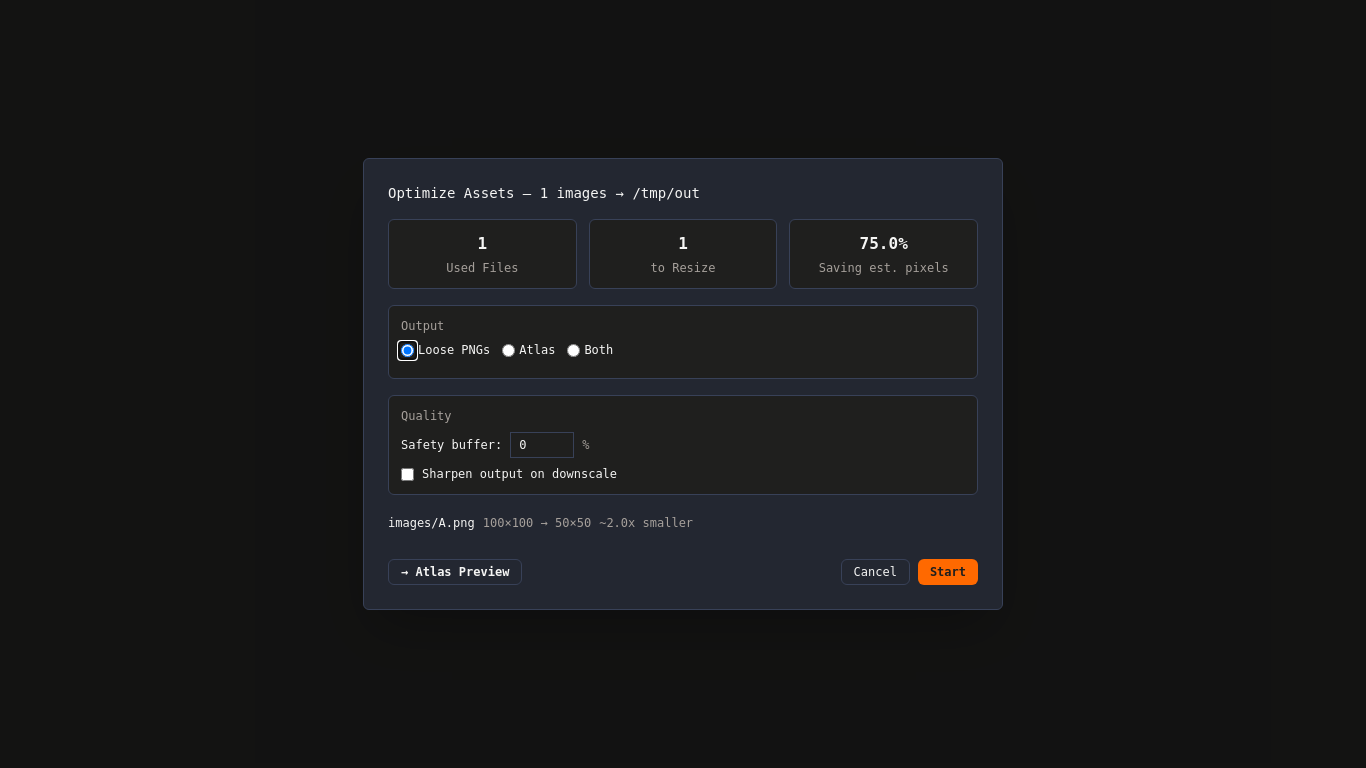
it: OptimizeDialog — auto-expand on per-row error › error progress event renders the underlying message inline (no manual click required)
The image size is (1366, 768).
Click the button "Start" at [948, 572], box x1=918 y1=559 x2=978 y2=585
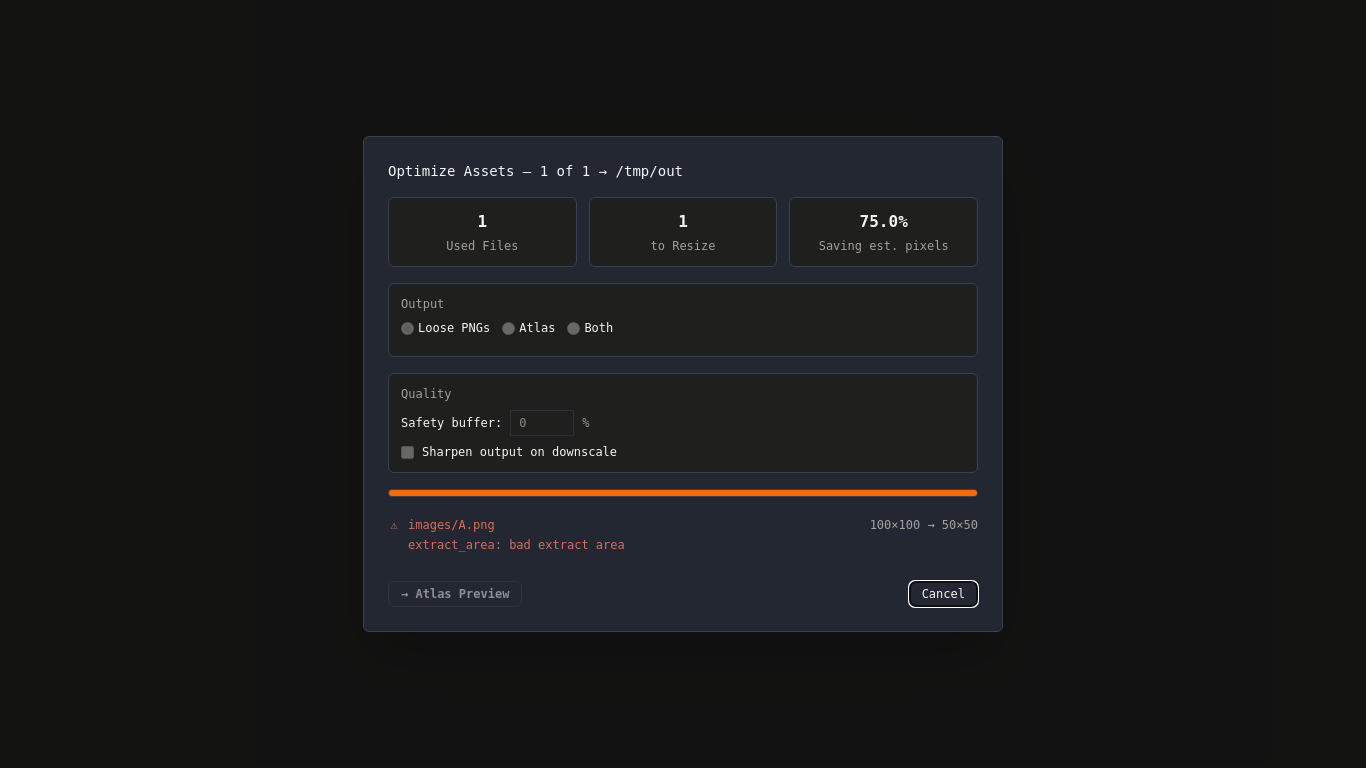
Expected: the text "extract_area: bad extract area" is shown, x1=408 y1=538 x2=625 y2=552
